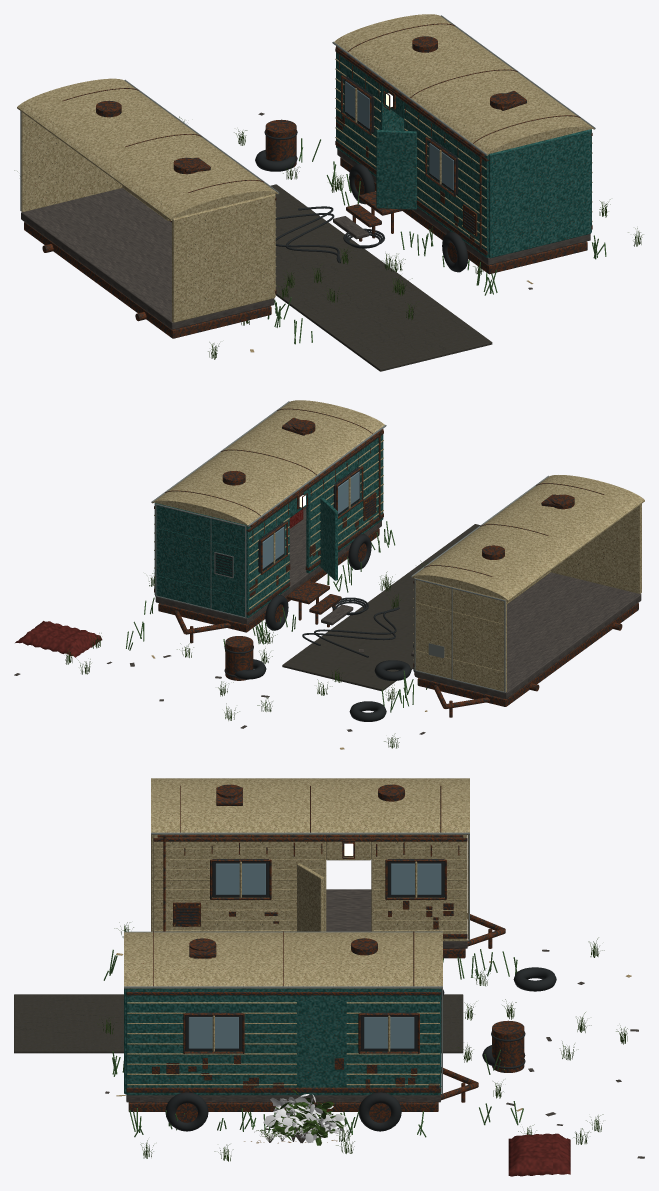
File: SM_Env_Tile_p1_m1.fbx
The picture shows the model from 3 angles, top to bottom: view 1: azimuth 30°, elevation 25°; view 2: azimuth 150°, elevation 25°; view 3: azimuth 270°, elevation 25°; orthographic projection. The views are drawn at different scales.
Visible parts, largest first — view 1: SM_Env_Tile_p1_m1; view 2: SM_Env_Tile_p1_m1; view 3: SM_Env_Tile_p1_m1.
Boxes of the visible parts, <box> form: SM_Env_Tile_p1_m1: <box>14,14,643,371</box>; SM_Env_Tile_p1_m1: <box>14,400,644,749</box>; SM_Env_Tile_p1_m1: <box>14,778,644,1176</box>.
Size of what is drawn, in the model's own units: 1353 by 1404 by 396.
20 materials, 10 textured.
